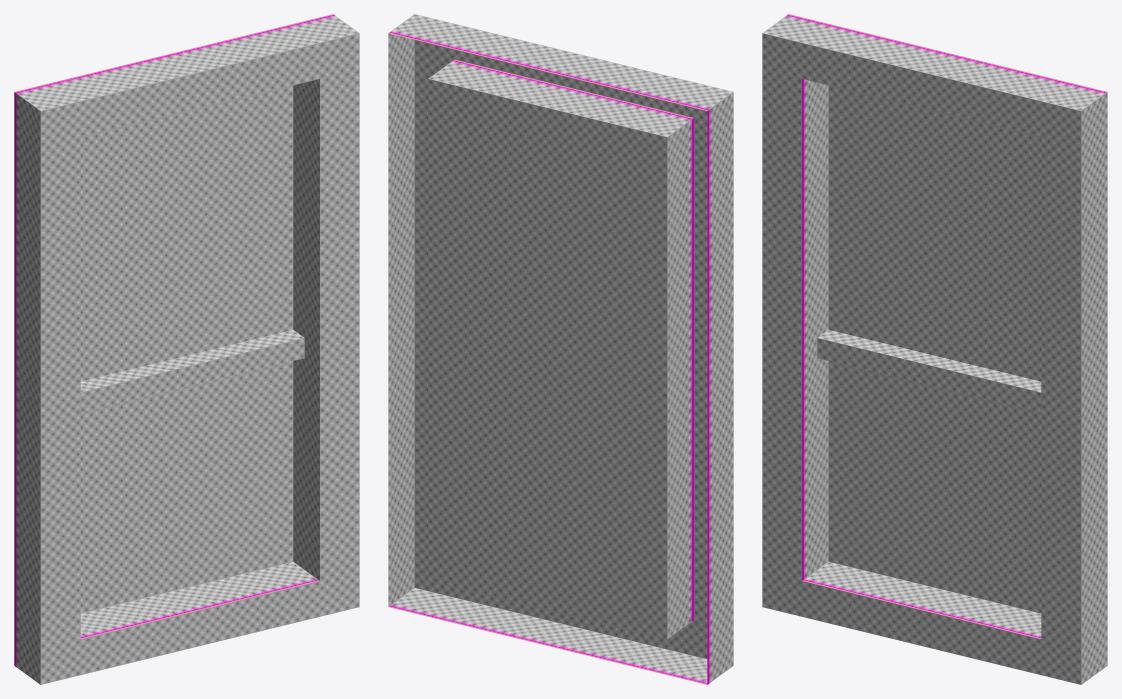
The model's file is Window_Square.fbx.
3 renders of one model, left to right at view 1: azimuth 30°, elevation 25°; view 2: azimuth 150°, elevation 25°; view 3: azimuth 330°, elevation 25°, orthographic.
Visible parts, largest first — view 1: Window_Square, Window_Stick; view 2: Window_Square; view 3: Window_Square, Window_Stick.
Boxes of the visible parts, box(x1,y1,x2,y2) form: Window_Square: box(14, 14, 359, 684); Window_Stick: box(80, 329, 304, 412); Window_Square: box(388, 14, 733, 684); Window_Square: box(762, 14, 1107, 684); Window_Stick: box(817, 329, 1041, 412).
Bounding box in the file's own units: 175 × 300 × 25.
